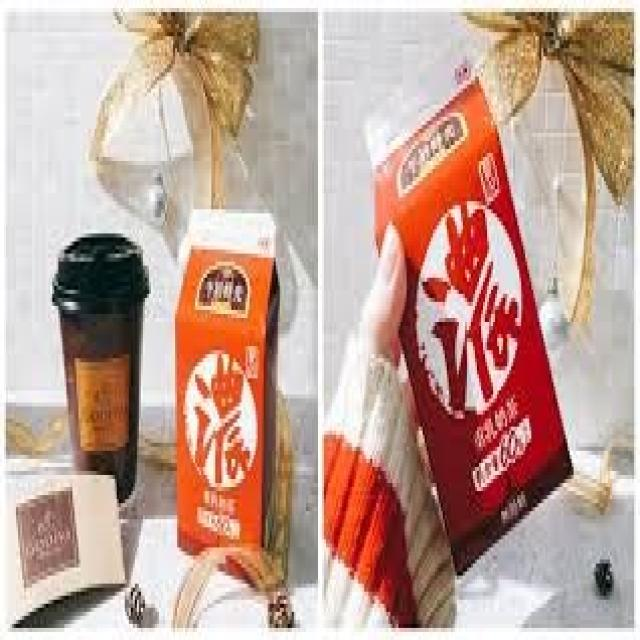Known_MilkTea: (361, 40, 575, 553), (176, 201, 278, 568)
